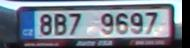6: (115, 12, 129, 34)
7: (144, 11, 159, 34), (68, 13, 82, 35)
8: (39, 14, 52, 36)
9: (101, 12, 114, 35), (131, 12, 143, 34)
B: (54, 13, 67, 36)
